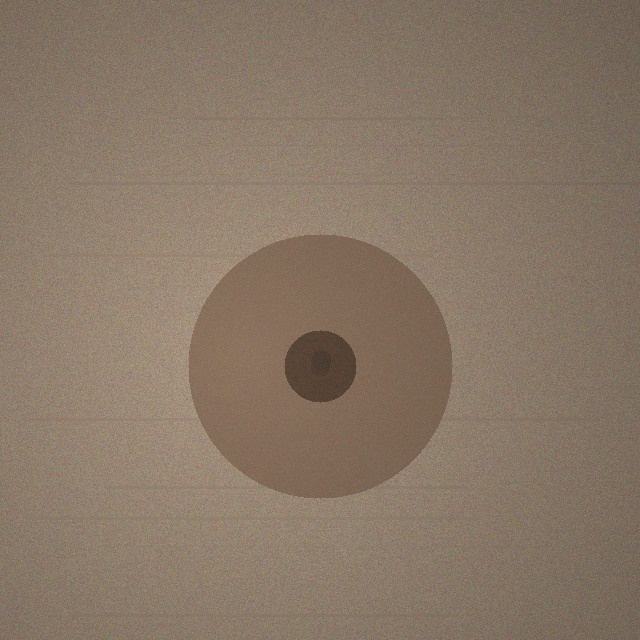cold_weld: (188, 234, 452, 498)
